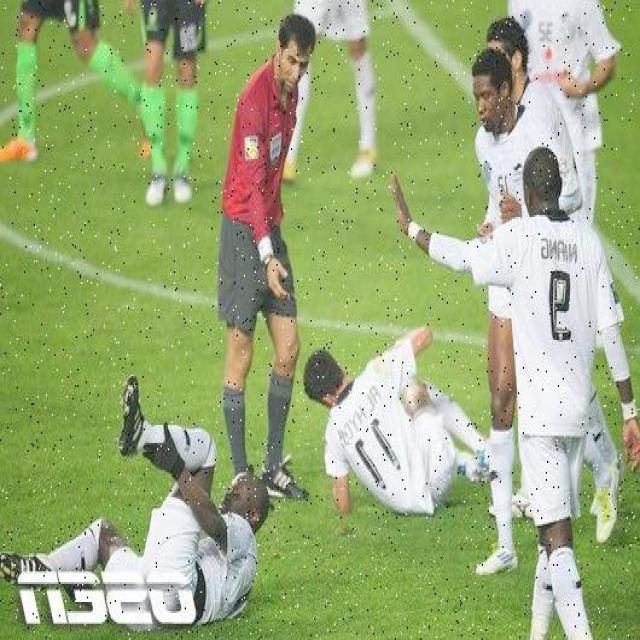fall: (1, 427, 263, 611), (308, 338, 462, 515)
